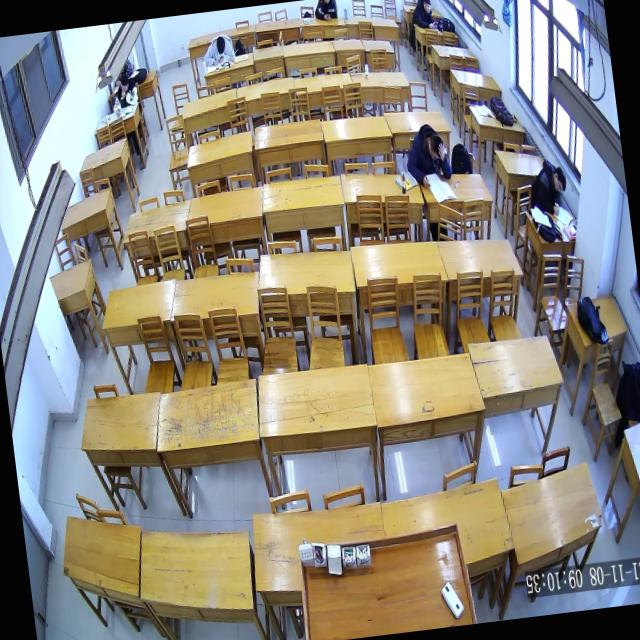bow: (200, 33, 237, 66), (232, 52, 248, 64)
down: (426, 133, 446, 161), (550, 166, 568, 194), (215, 35, 227, 55), (421, 0, 432, 14)
sit: (402, 121, 452, 188), (527, 156, 569, 218), (109, 71, 141, 116), (410, 0, 437, 31)
